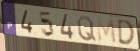4: (59, 13, 75, 41), (20, 10, 35, 36)
5: (38, 11, 55, 38)
D: (116, 19, 136, 48)
M: (95, 17, 118, 46)
Q: (76, 15, 98, 43)
